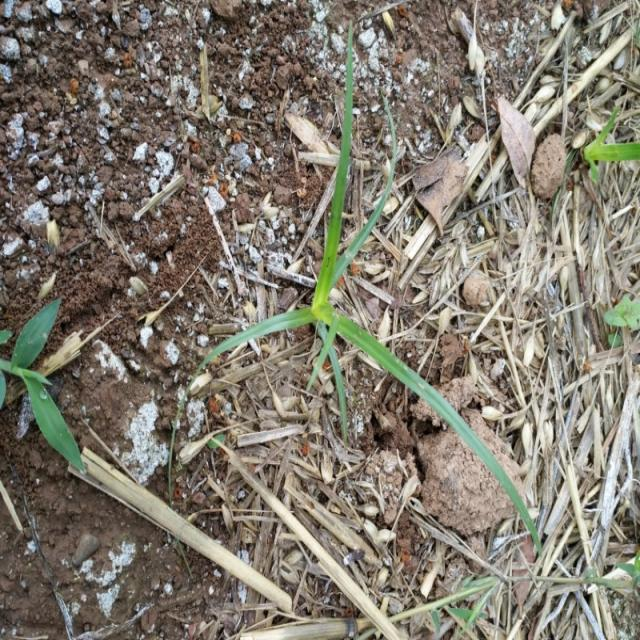sedge: (251, 94, 524, 557)
